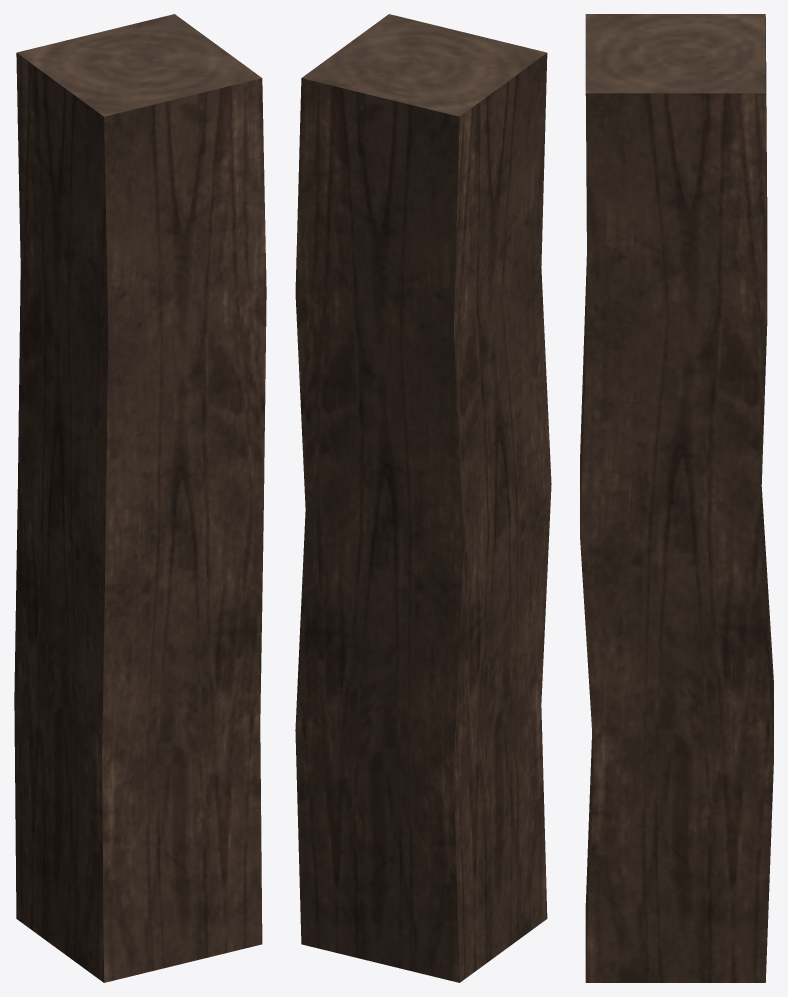
Rendered from Wood_Beam1.fbx.
3 views of the same model, side by side, from view 1: azimuth 30°, elevation 25°; view 2: azimuth 150°, elevation 25°; view 3: azimuth 270°, elevation 25° (orthographic). The views are drawn at different scales.
Visible parts, largest first — view 1: Cube.009; view 2: Cube.009; view 3: Cube.009.
Part boxes in pixels (<box>): Cube.009: <box>14,14,266,982</box>; Cube.009: <box>295,14,551,982</box>; Cube.009: <box>580,14,773,982</box>.
Bounding box in the file's own units: 0.9952 × 0.9879 × 5.
